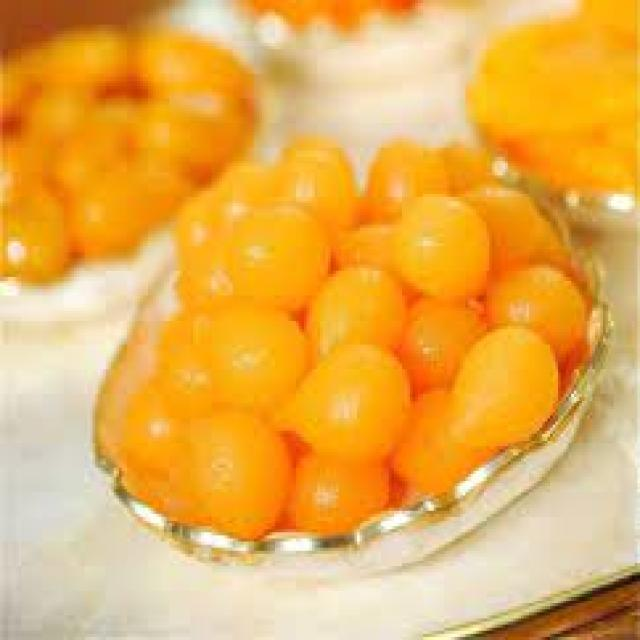Tongyord: (285, 334, 421, 448), (188, 299, 321, 412), (172, 411, 286, 542), (444, 332, 569, 448), (388, 181, 494, 301), (278, 444, 412, 532), (223, 205, 329, 304), (306, 264, 417, 354), (124, 357, 206, 466)
